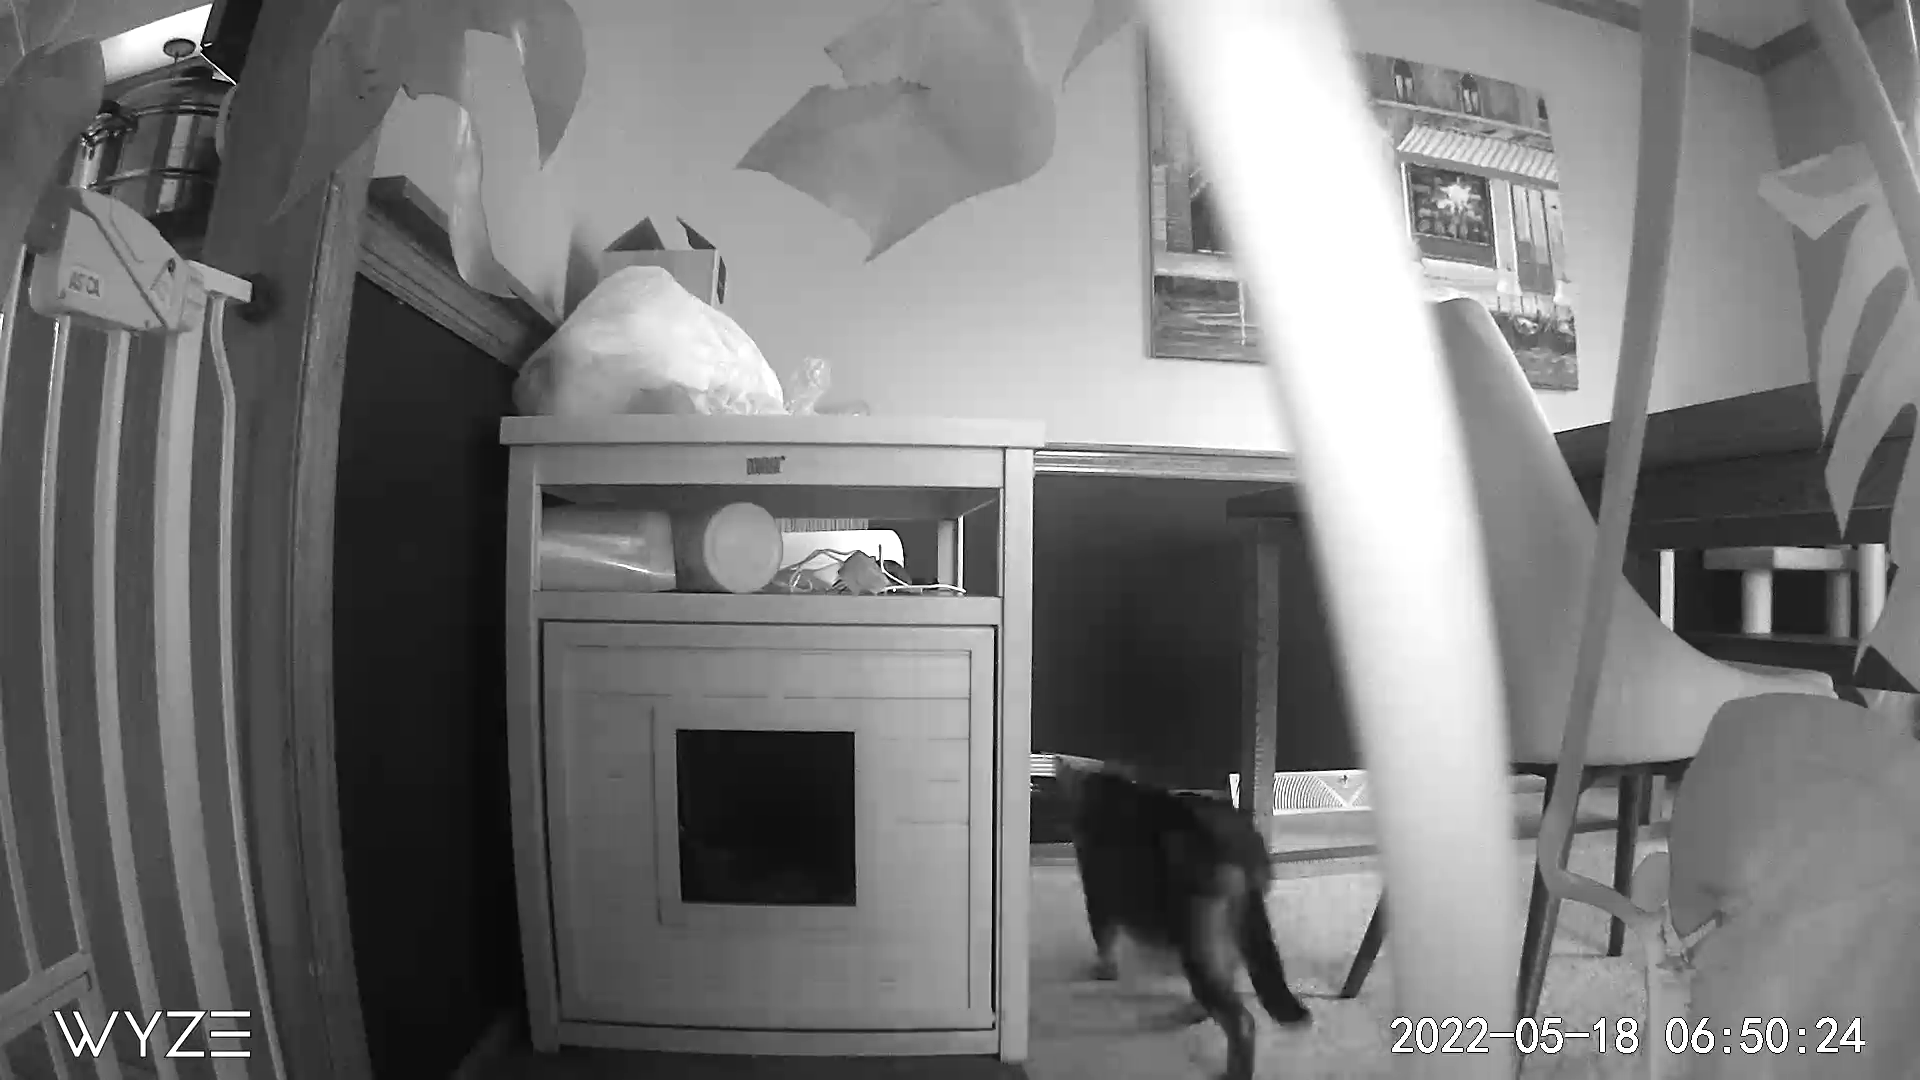sparky: (1046, 756, 1308, 1067)
